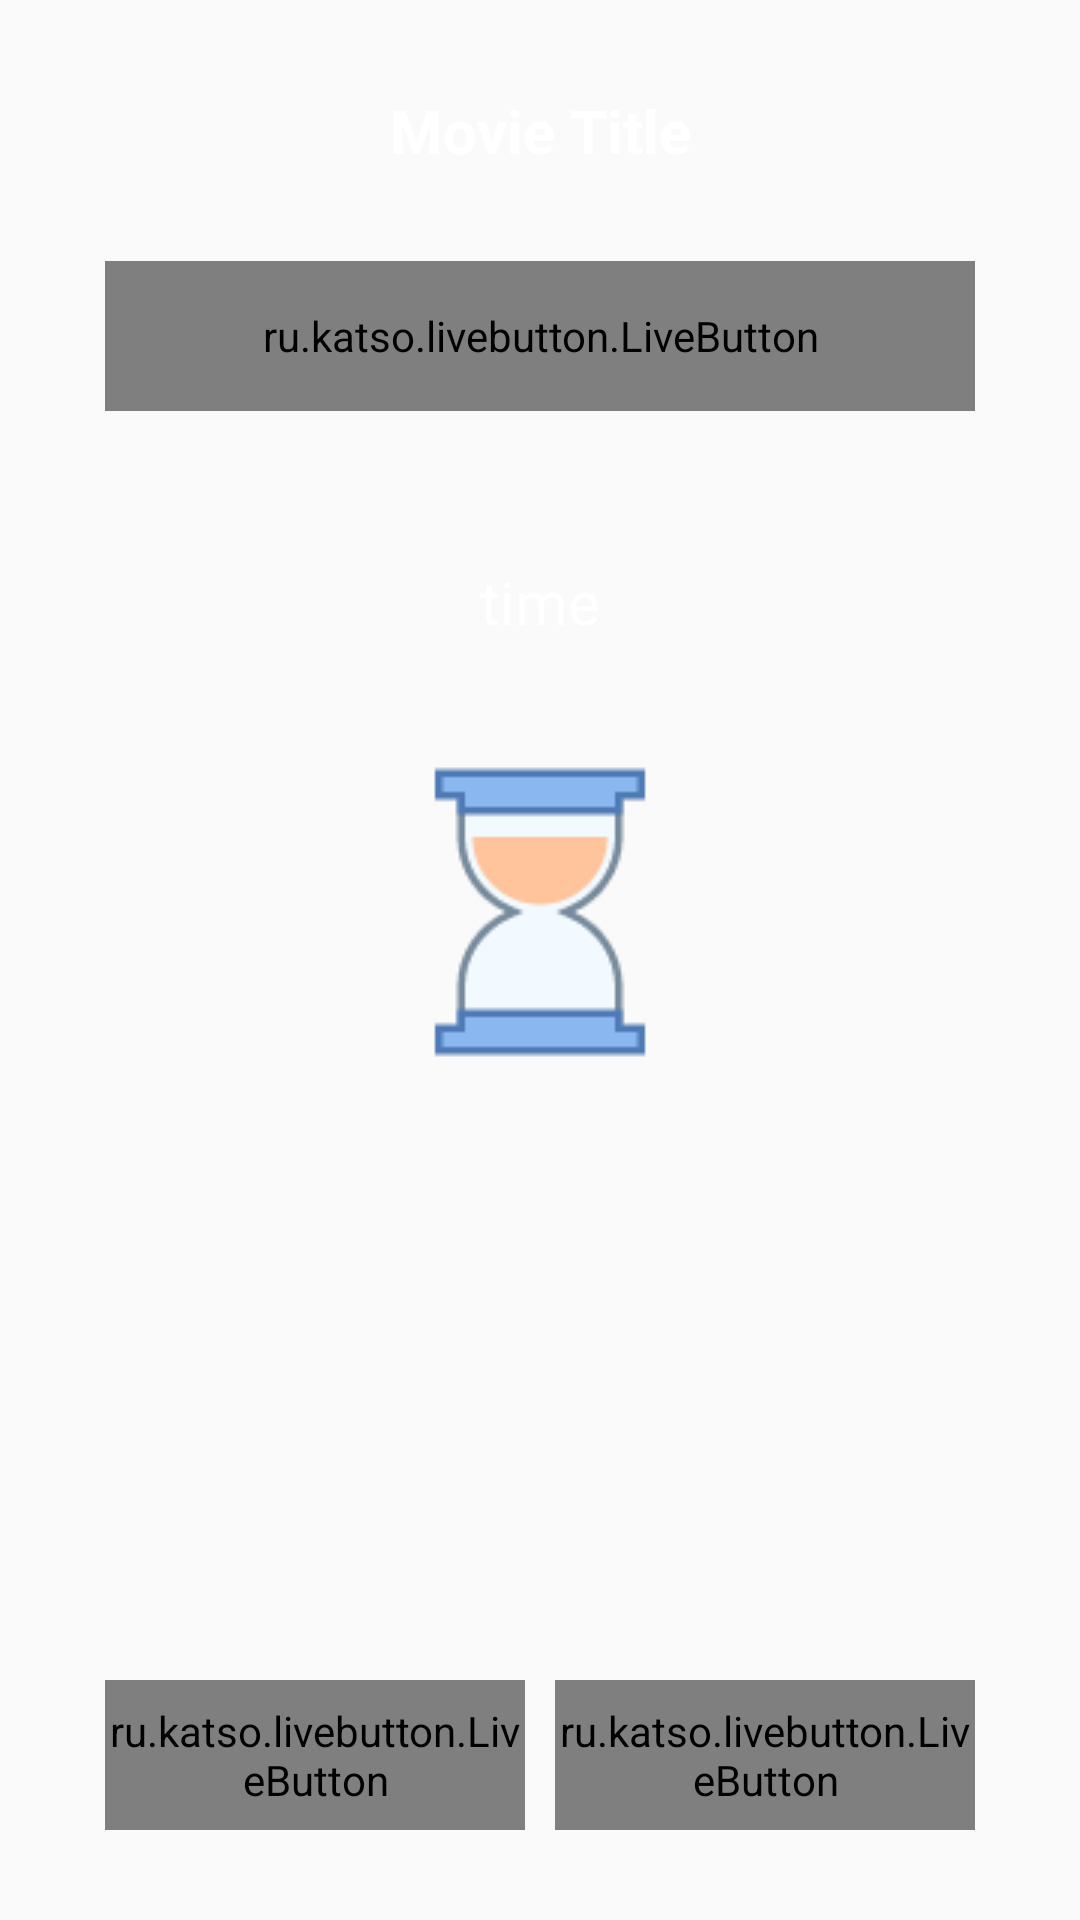

Point at icon controls on the screen. Image size 1080x1920, points as [x,y].
hourglass start: [540,912]
